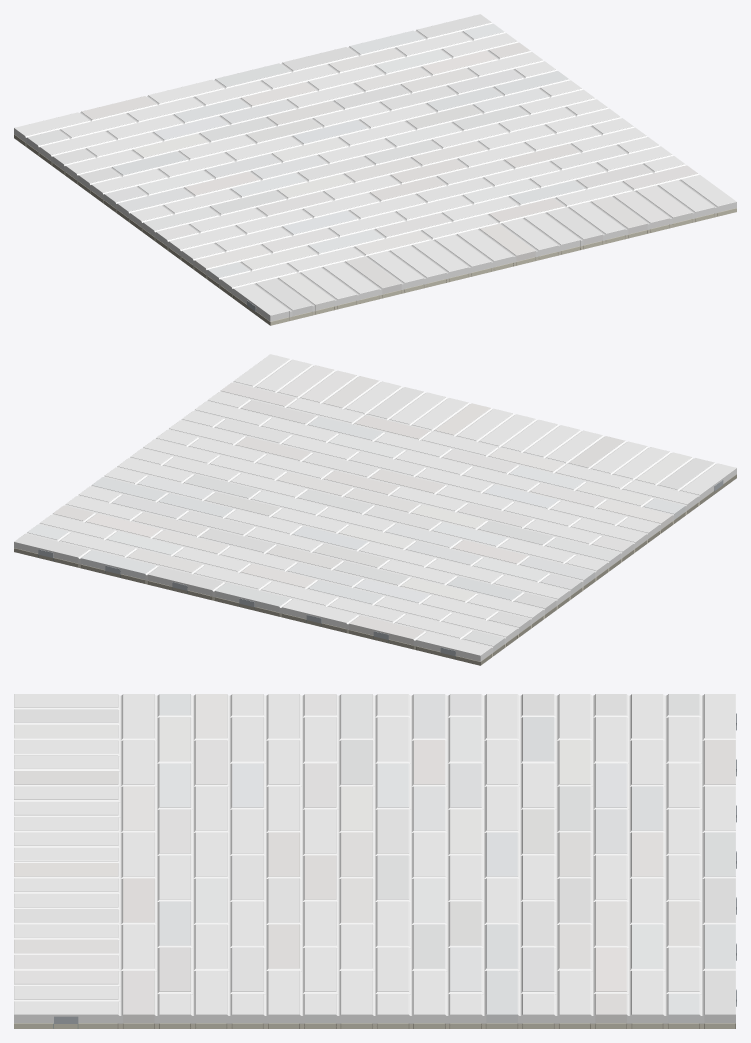
Rendered from board_1.glb.
3 renders of one model, top to bottom at view 1: azimuth 30°, elevation 25°; view 2: azimuth 150°, elevation 25°; view 3: azimuth 270°, elevation 25°, orthographic. The views are drawn at different scales.
Parts seen in each view (by area): view 1: T01_T01, MORTAR, T02_T02, backing; view 2: T01_T01, MORTAR, T02_T02, backing, CLIP_RC-50; view 3: T01_T01, MORTAR, T02_T02, backing.
Boxes of the visible parts, x1=… form: T01_T01: x1=14, y1=14, x2=736, y2=321; MORTAR: x1=25, y1=22, x2=717, y2=317; T02_T02: x1=27, y1=23, x2=684, y2=283; backing: x1=14, y1=134, x2=736, y2=325; T01_T01: x1=14, y1=354, x2=736, y2=661; MORTAR: x1=26, y1=359, x2=715, y2=653; T02_T02: x1=27, y1=392, x2=685, y2=651; backing: x1=14, y1=474, x2=736, y2=665; CLIP_RC-50: x1=38, y1=480, x2=723, y2=656; T01_T01: x1=14, y1=694, x2=735, y2=1023; MORTAR: x1=14, y1=694, x2=735, y2=1023; T02_T02: x1=159, y1=694, x2=699, y2=1023; backing: x1=14, y1=1023, x2=735, y2=1028.
Size of the model in its own units: 1.57 by 0.033 by 1.49.
4 materials, 1 textured.
